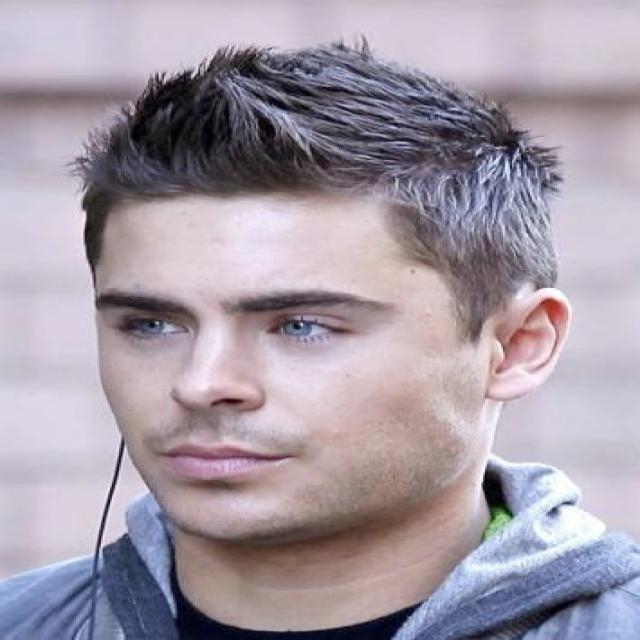face: (70, 106, 492, 547)
